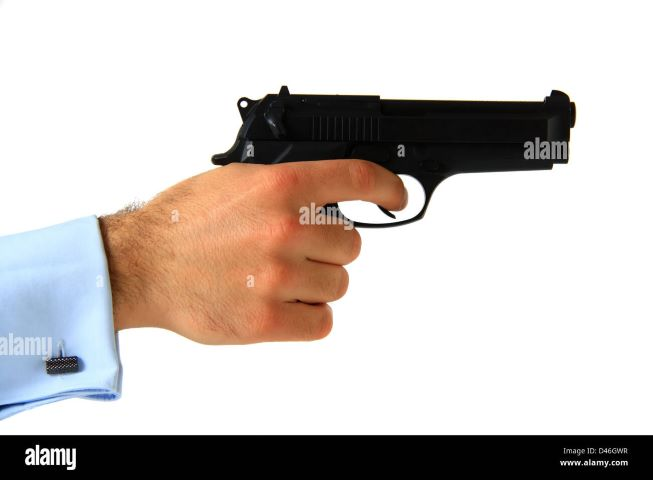pistol: (211, 79, 587, 233)
